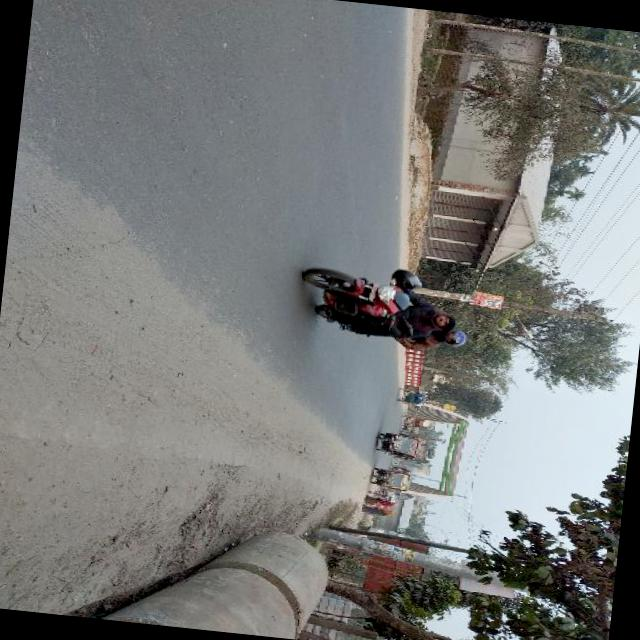motorcycle: (293, 257, 431, 339), (374, 430, 420, 459), (368, 465, 412, 490), (396, 386, 426, 404), (401, 415, 424, 427), (400, 424, 420, 431), (389, 464, 405, 471), (392, 456, 400, 462)
